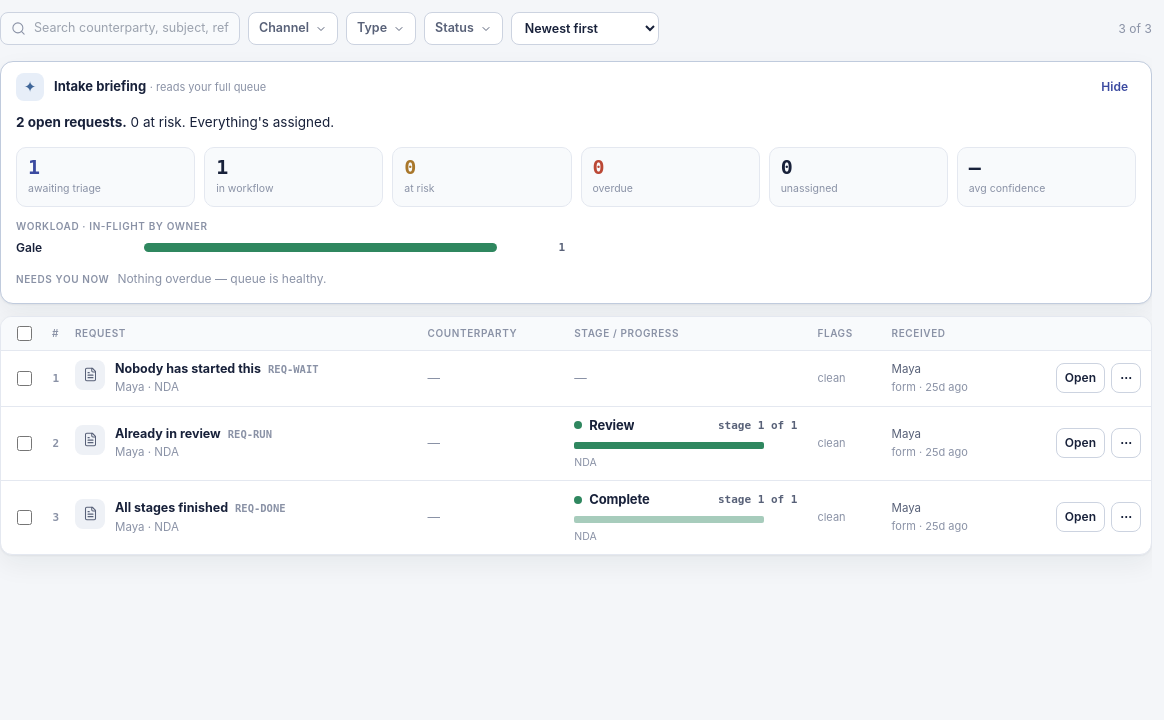
the Awaiting triage filter › narrows the table to requests no workflow has started on
Expected: the text "Nobody has started this" is shown, [115,360,261,378]
Expected: the text "Already in review" is shown, [115,425,221,444]
Step 1. Click the button "Status" → point(463, 28), box [424,12,503,45]
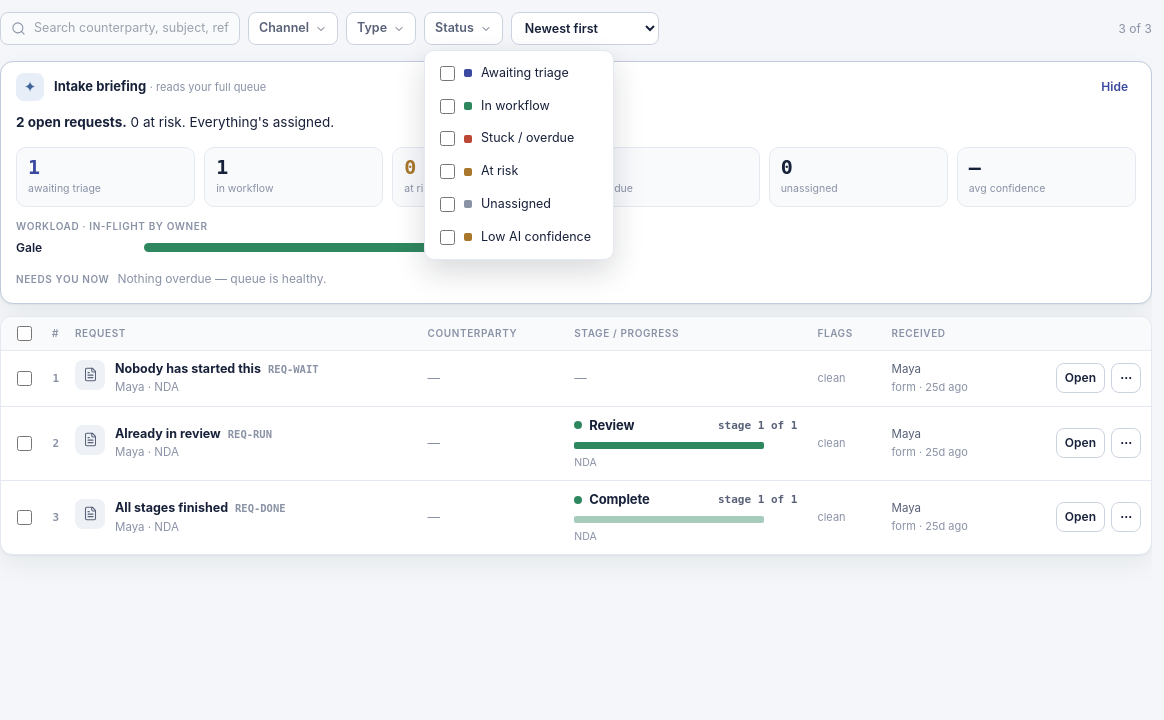
Step 2. Click the checkbox labelled "Awaiting triage" → point(448, 73), box [440,66,455,81]
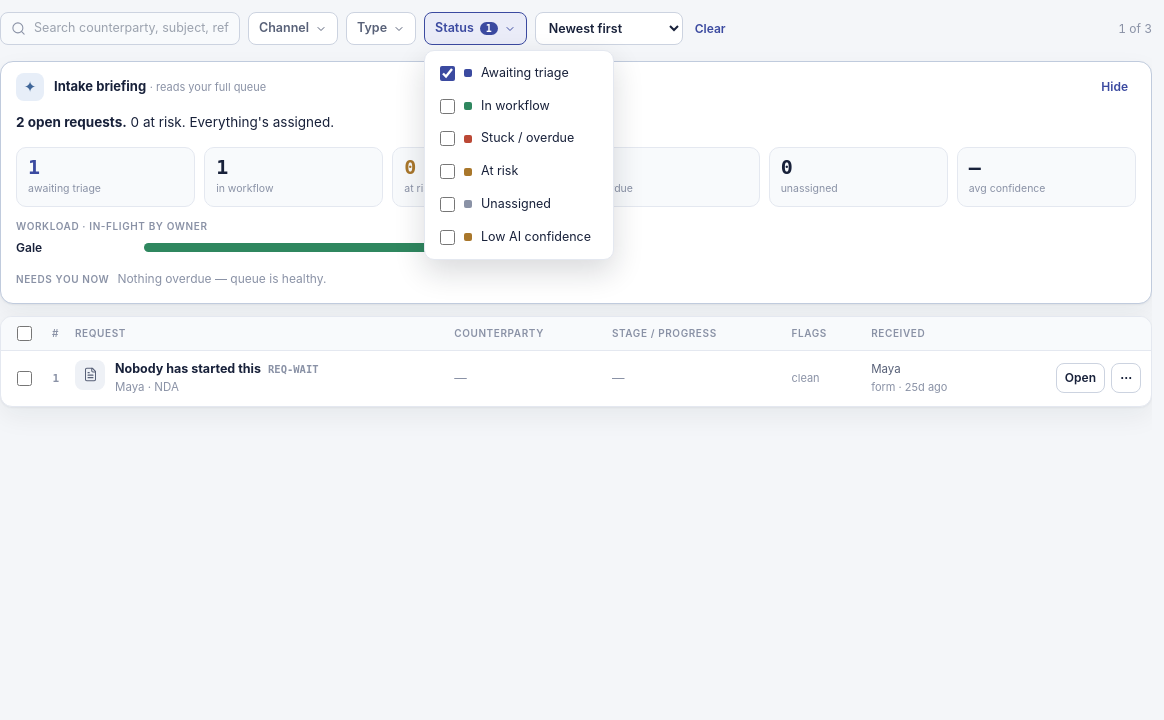
Expected: the text "Nobody has started this" is shown, [115,360,261,378]
Expected: the text "Already in review" is gone
Expected: the text "All stages finished" is gone
